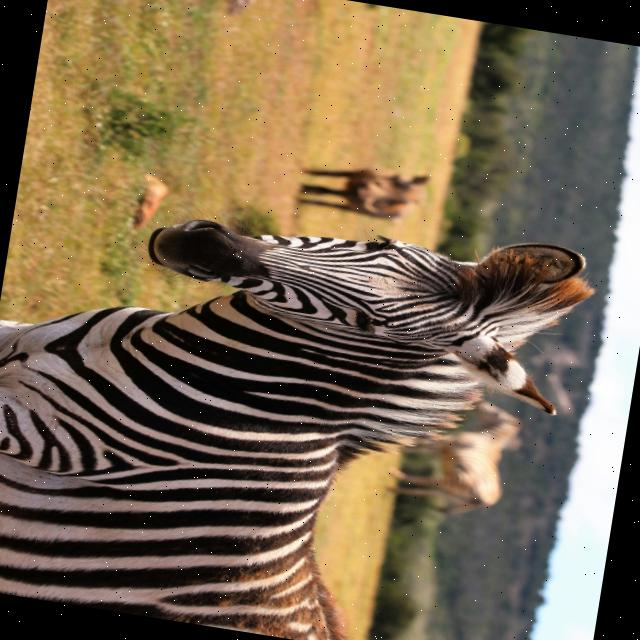Zebra: (0, 159, 605, 640)
